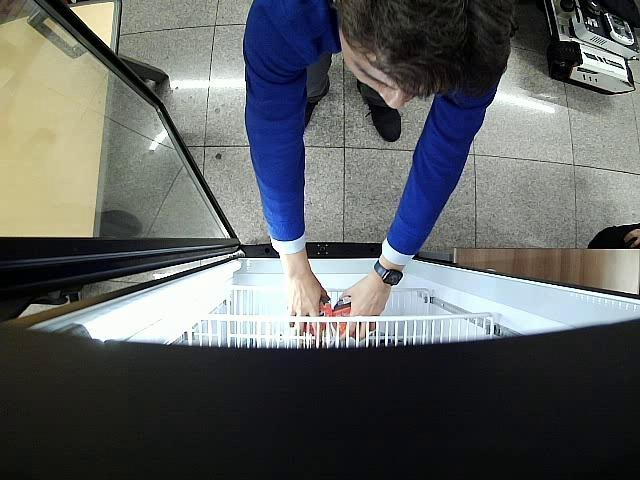02_shinRamen_S: (332, 294, 373, 336), (293, 296, 331, 335)
